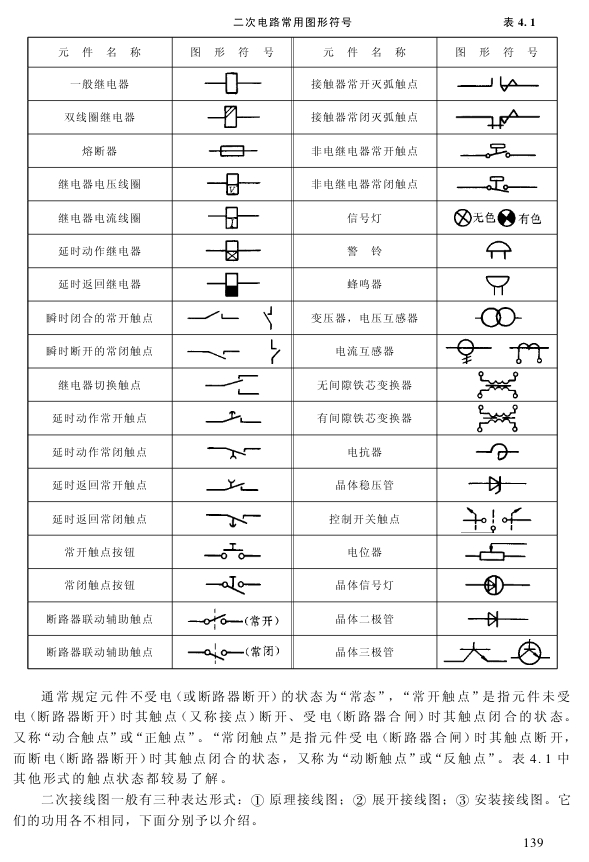table: (27, 36, 558, 669)
